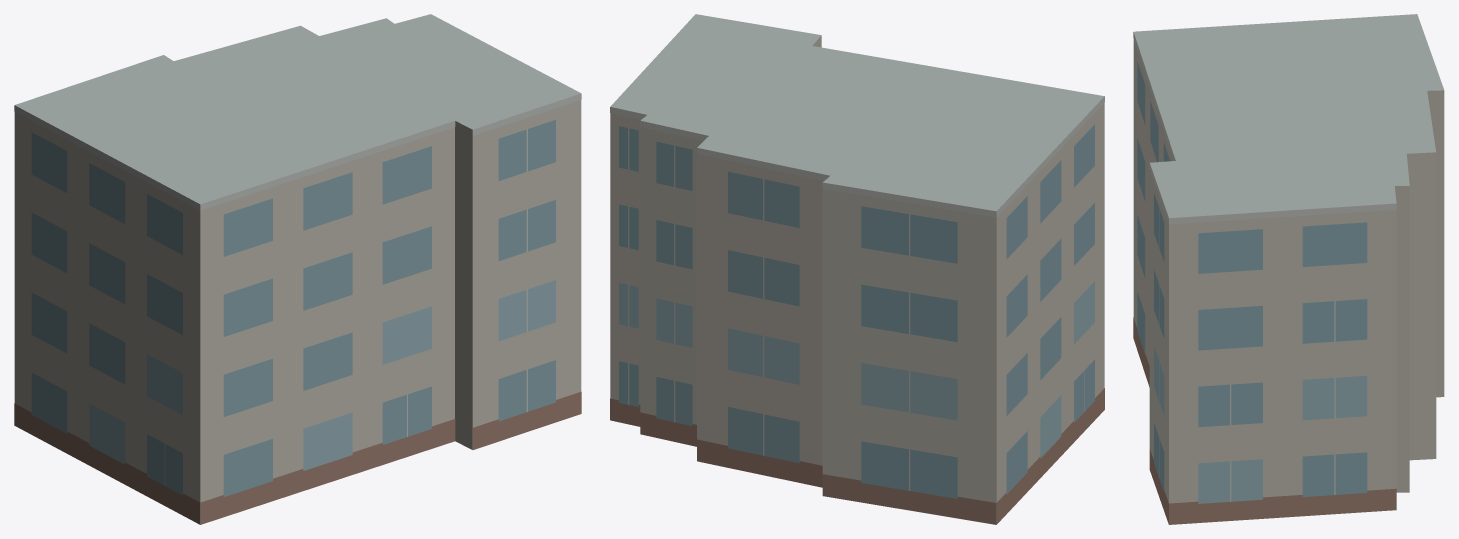
File: survey-upis-32577394.glb
The picture shows the model from 3 angles, left to right: view 1: azimuth 30°, elevation 25°; view 2: azimuth 150°, elevation 25°; view 3: azimuth 270°, elevation 25°; orthographic projection. The views are drawn at different scales.
Parts seen in each view (by area): view 1: survey-upis-32577394.tmp; view 2: survey-upis-32577394.tmp; view 3: survey-upis-32577394.tmp.
Boxes of the visible parts, left/top/right/bottom form: survey-upis-32577394.tmp: left=14, top=14, right=581, bottom=524; survey-upis-32577394.tmp: left=610, top=14, right=1104, bottom=524; survey-upis-32577394.tmp: left=1133, top=14, right=1444, bottom=524.
Size of the model in its own units: 17.43 by 12.2 by 11.22.
